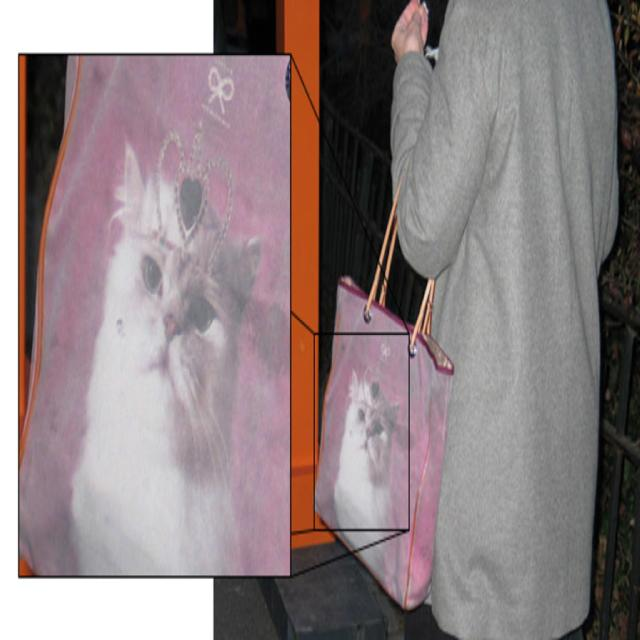Cat: (55, 126, 262, 564), (330, 366, 404, 590)
